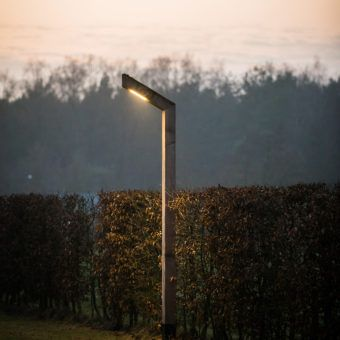Arbol: (4, 193, 337, 333)
Poste: (140, 84, 182, 327)
